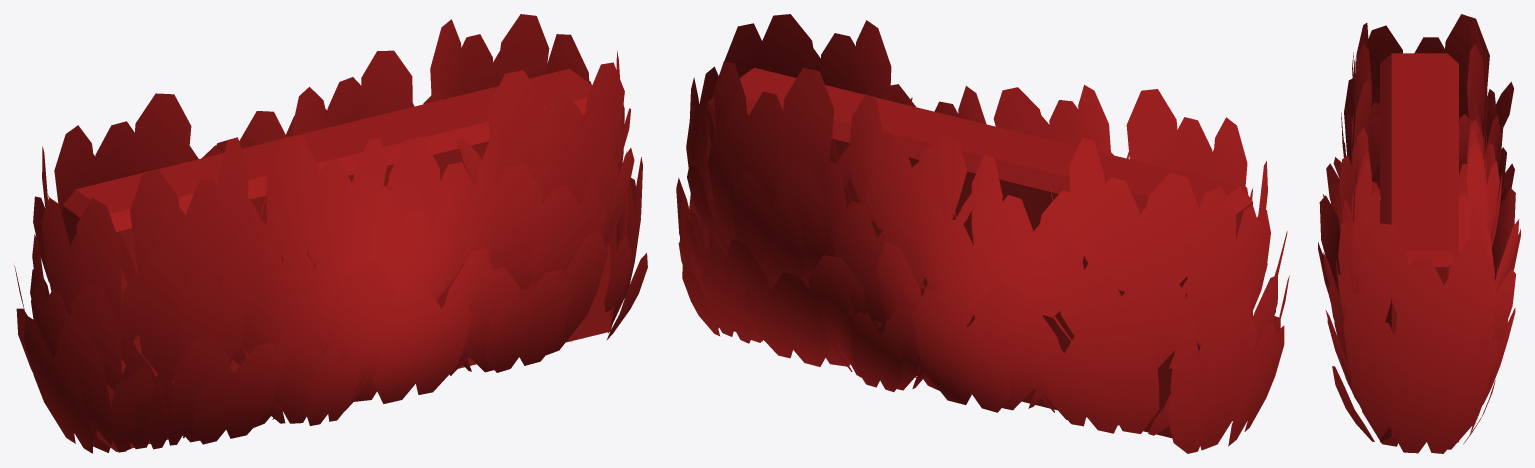
The model's file is hedge01.fbx.
The picture shows the model from 3 angles, left to right: view 1: azimuth 30°, elevation 25°; view 2: azimuth 150°, elevation 25°; view 3: azimuth 270°, elevation 25°; orthographic projection. The views are drawn at different scales.
Visible parts, largest first — view 1: hedgeGrass, hedge; view 2: hedgeGrass, hedge; view 3: hedgeGrass, hedge.
Boxes of the visible parts, bbox=[...] form: hedgeGrass: bbox=[14, 14, 647, 453]; hedge: bbox=[62, 69, 616, 451]; hedgeGrass: bbox=[676, 14, 1289, 453]; hedge: bbox=[707, 67, 1252, 438]; hedgeGrass: bbox=[1318, 14, 1520, 453]; hedge: bbox=[1380, 53, 1458, 442].
Bounding box in the file's own units: 183 × 89.75 × 66.3.
